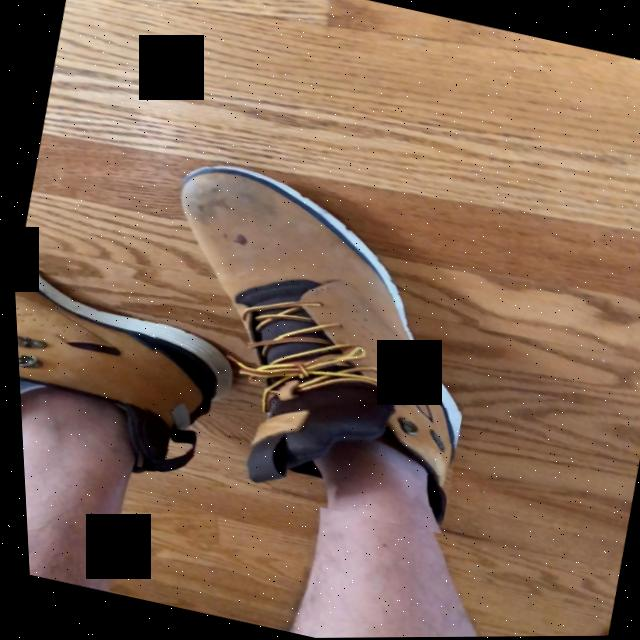shoe: (175, 168, 455, 518)
